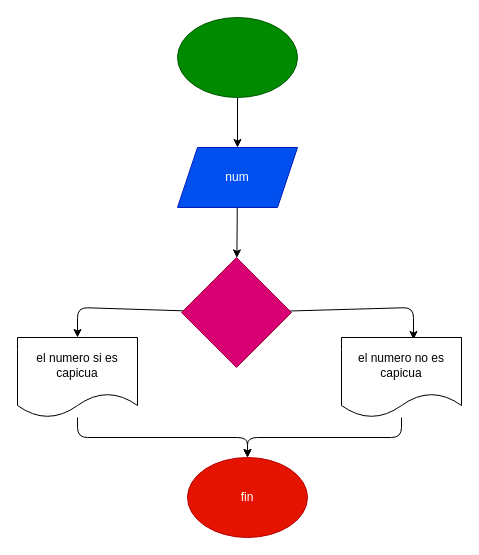
Image size: 479x555. Some labels were removed from this diagram. The shapes that lost their labels are listed below. From the top down, each one's box as (x1, y1, x2, y2) in pixels, then its label:
(176, 16, 298, 98): inicio
(180, 256, 292, 368): num==num[::-1]
